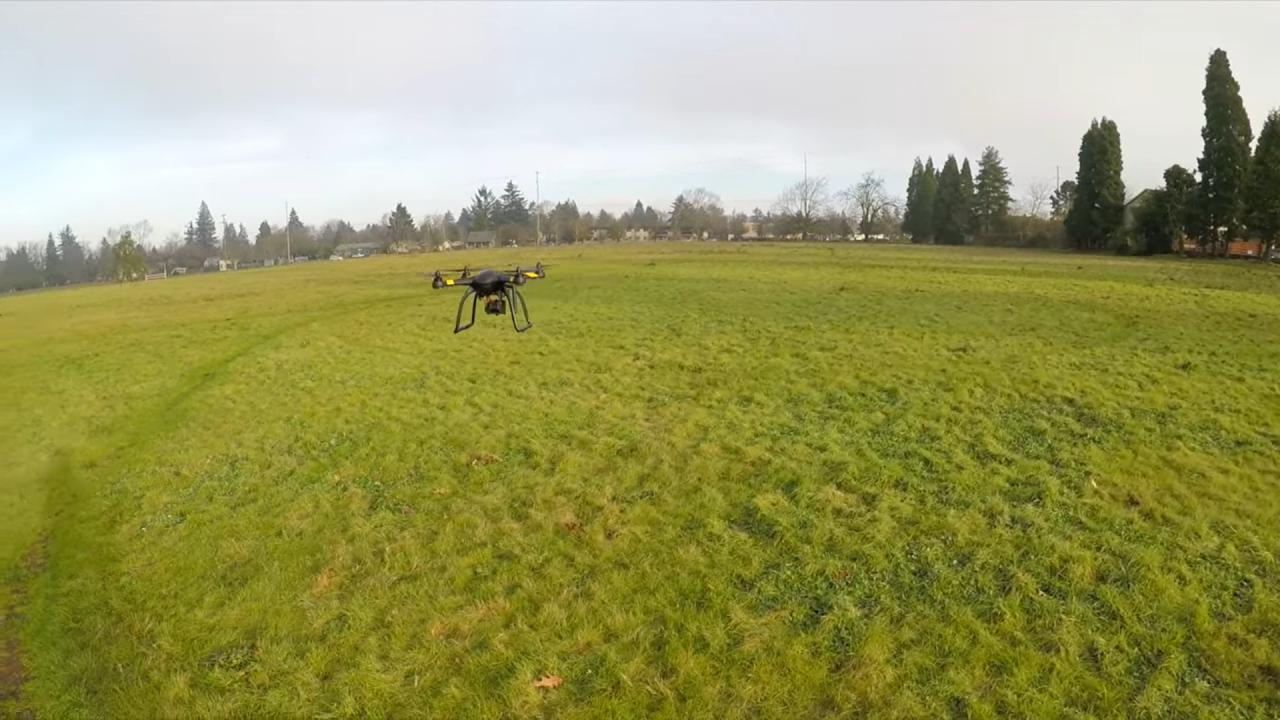Drone: (418, 248, 568, 341)
